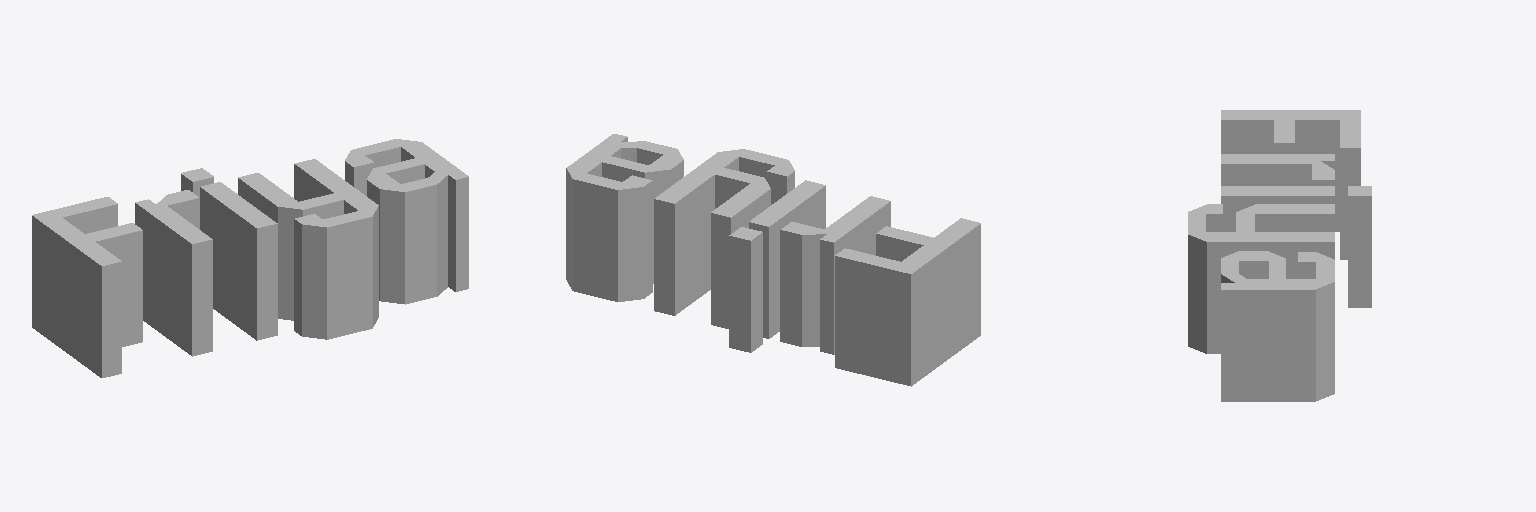
The model's file is cat_name.obj.
The picture shows the model from 3 angles: view 1: azimuth 30°, elevation 25°; view 2: azimuth 150°, elevation 25°; view 3: azimuth 270°, elevation 25°; orthographic projection.
Visible parts, largest first — view 1: Text; view 2: Text; view 3: Text.
Part boxes in pixels (left/top/right/bottom): Text: left=32, top=139, right=468, bottom=377; Text: left=566, top=134, right=980, bottom=386; Text: left=1188, top=110, right=1371, bottom=401.
Size of the model in its own units: 1.71 by 0.5 by 0.7468.